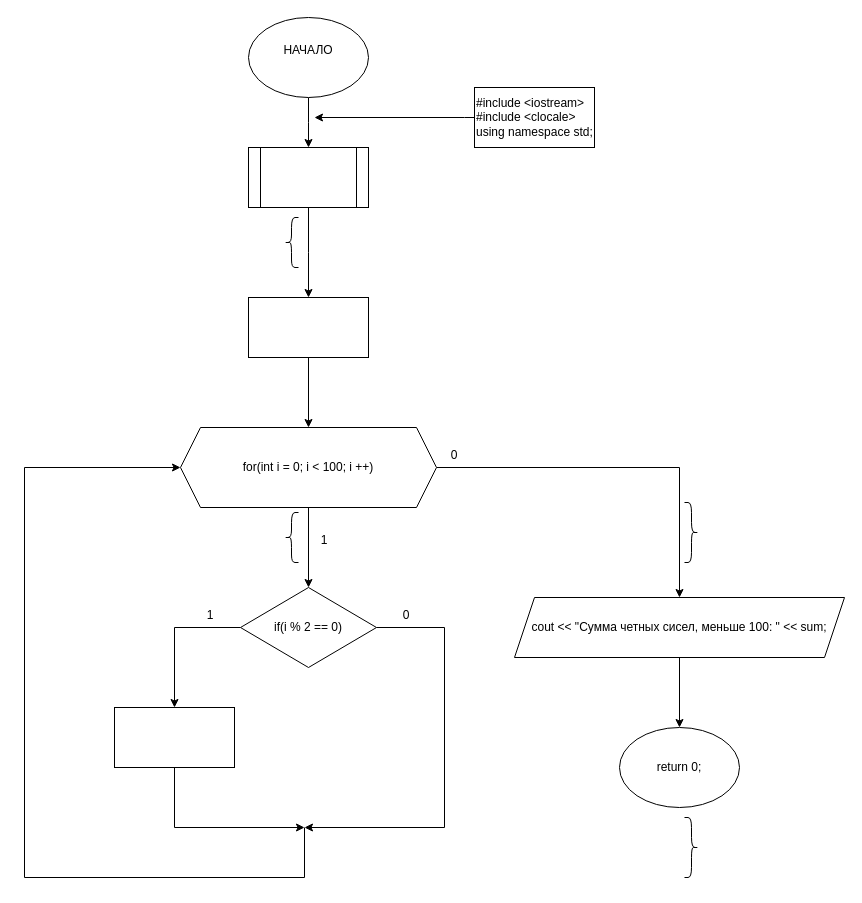
This 862x903 diagram has some shape labels left out. Each missing label, with the box of its shape:
int main(): (248, 146, 368, 208)
int sum = 0;: (248, 296, 368, 358)
sum += i;: (114, 706, 234, 768)
